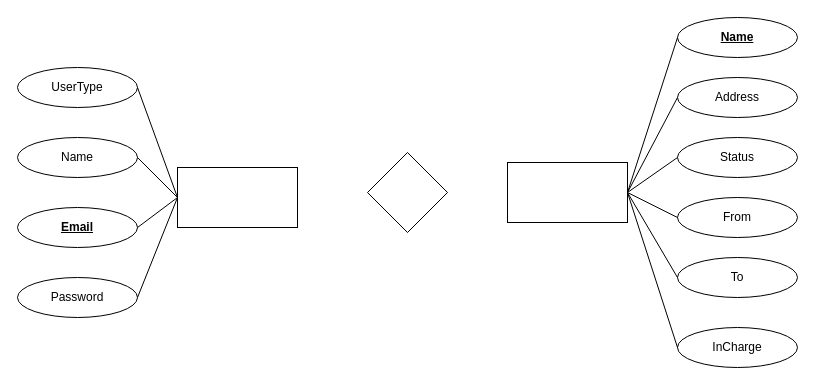
The diagram is 815 pixels wide and 385 high, and some of its shapes have lost their labels. The centre of each missing label's shape, as x and y in pixels:
"Access" belongs at (407,192).
"Railway Crossings" belongs at (567,192).
"User" belongs at (237,197).
